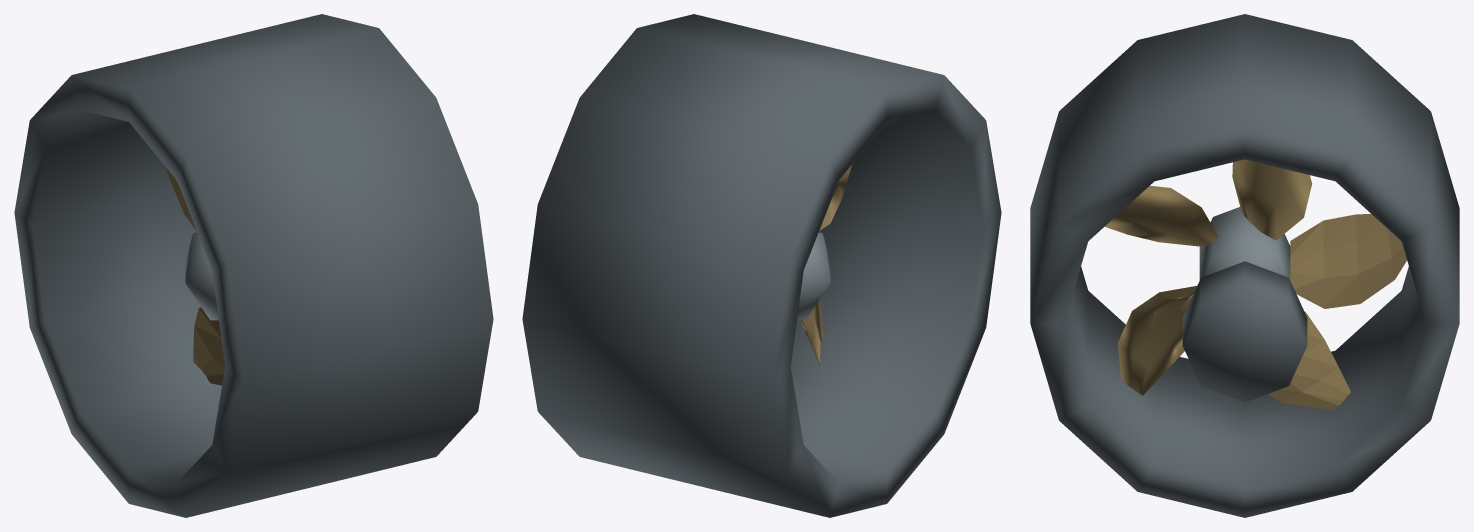
The model's file is THRUSTER_TUNNEL_LOD3.fbx.
3 views of the same model, side by side, from view 1: azimuth 30°, elevation 25°; view 2: azimuth 150°, elevation 25°; view 3: azimuth 270°, elevation 25° (orthographic). The views are drawn at different scales.
Visible parts, largest first — view 1: THRUSTER_TUNNEL_LOD3_Duct.001, THRUSTER_TUNNEL_LOD3_Impeller_04.001, THRUSTER_TUNNEL_LOD3_Hub.001; view 2: THRUSTER_TUNNEL_LOD3_Duct.001, THRUSTER_TUNNEL_LOD3_Hub.001, THRUSTER_TUNNEL_LOD3_Impeller_03.001, THRUSTER_TUNNEL_LOD3_Impeller_02.001; view 3: THRUSTER_TUNNEL_LOD3_Duct.001, THRUSTER_TUNNEL_LOD3_MountFlange.001, THRUSTER_TUNNEL_LOD3_Impeller_00.001, THRUSTER_TUNNEL_LOD3_Impeller_03.001, THRUSTER_TUNNEL_LOD3_Impeller_01.001, THRUSTER_TUNNEL_LOD3_Impeller_02.001, THRUSTER_TUNNEL_LOD3_Hub.001, THRUSTER_TUNNEL_LOD3_Impeller_04.001.
Boxes of the visible parts, left/top/right/bottom form: THRUSTER_TUNNEL_LOD3_Duct.001: left=14, top=14, right=493, bottom=517; THRUSTER_TUNNEL_LOD3_Impeller_04.001: left=193, top=307, right=224, bottom=385; THRUSTER_TUNNEL_LOD3_Hub.001: left=185, top=232, right=218, bottom=320; THRUSTER_TUNNEL_LOD3_Duct.001: left=522, top=14, right=1001, bottom=517; THRUSTER_TUNNEL_LOD3_Hub.001: left=797, top=232, right=830, bottom=320; THRUSTER_TUNNEL_LOD3_Impeller_03.001: left=800, top=300, right=823, bottom=366; THRUSTER_TUNNEL_LOD3_Impeller_02.001: left=819, top=165, right=851, bottom=231; THRUSTER_TUNNEL_LOD3_Duct.001: left=1030, top=14, right=1459, bottom=517; THRUSTER_TUNNEL_LOD3_MountFlange.001: left=1182, top=261, right=1307, bottom=402; THRUSTER_TUNNEL_LOD3_Impeller_00.001: left=1290, top=213, right=1406, bottom=308; THRUSTER_TUNNEL_LOD3_Impeller_03.001: left=1117, top=286, right=1196, bottom=395; THRUSTER_TUNNEL_LOD3_Impeller_01.001: left=1232, top=159, right=1312, bottom=240; THRUSTER_TUNNEL_LOD3_Impeller_02.001: left=1104, top=185, right=1218, bottom=246; THRUSTER_TUNNEL_LOD3_Hub.001: left=1199, top=207, right=1290, bottom=279; THRUSTER_TUNNEL_LOD3_Impeller_04.001: left=1268, top=311, right=1350, bottom=410.
Size of the model in its own units: 144 by 190 by 190.
